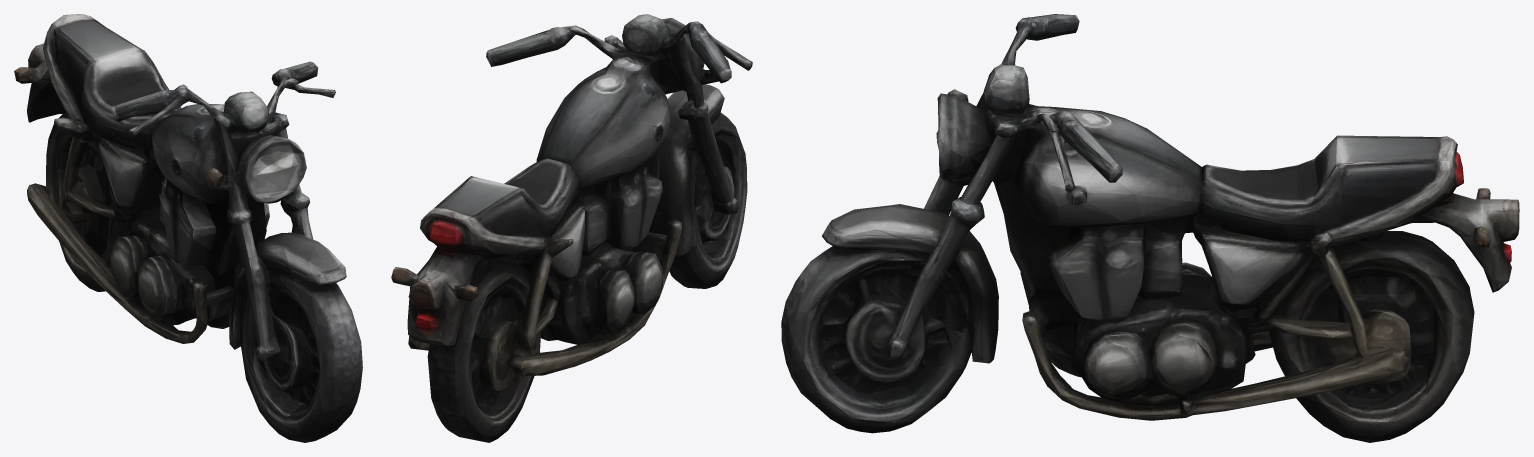
Rendered from motorcycle.glb.
The picture shows the model from 3 angles, left to right: view 1: azimuth 30°, elevation 25°; view 2: azimuth 150°, elevation 25°; view 3: azimuth 270°, elevation 25°; orthographic projection. The views are drawn at different scales.
Parts seen in each view (by area): view 1: world; view 2: world; view 3: world.
Boxes of the visible parts, left/top/right/bottom form: world: left=14, top=14, right=362, bottom=442; world: left=391, top=14, right=752, bottom=442; world: left=781, top=14, right=1519, bottom=442.
Size of the model in its own units: 0.4218 by 0.5671 by 0.9987.
Materials: 1 (1 with a texture image).
